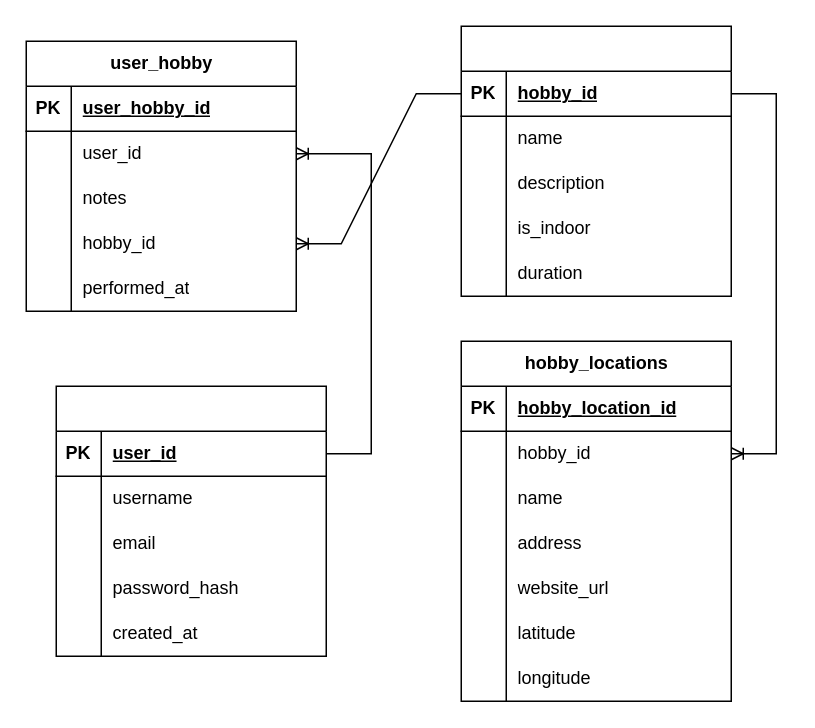
Some shapes in this 815 by 728 pixel diagram are drawn without their labels. Here are the shapes that lost their labels. From the top down, the box of each, then its label:
(460, 25, 731, 296): hobbies
(55, 385, 326, 656): users
